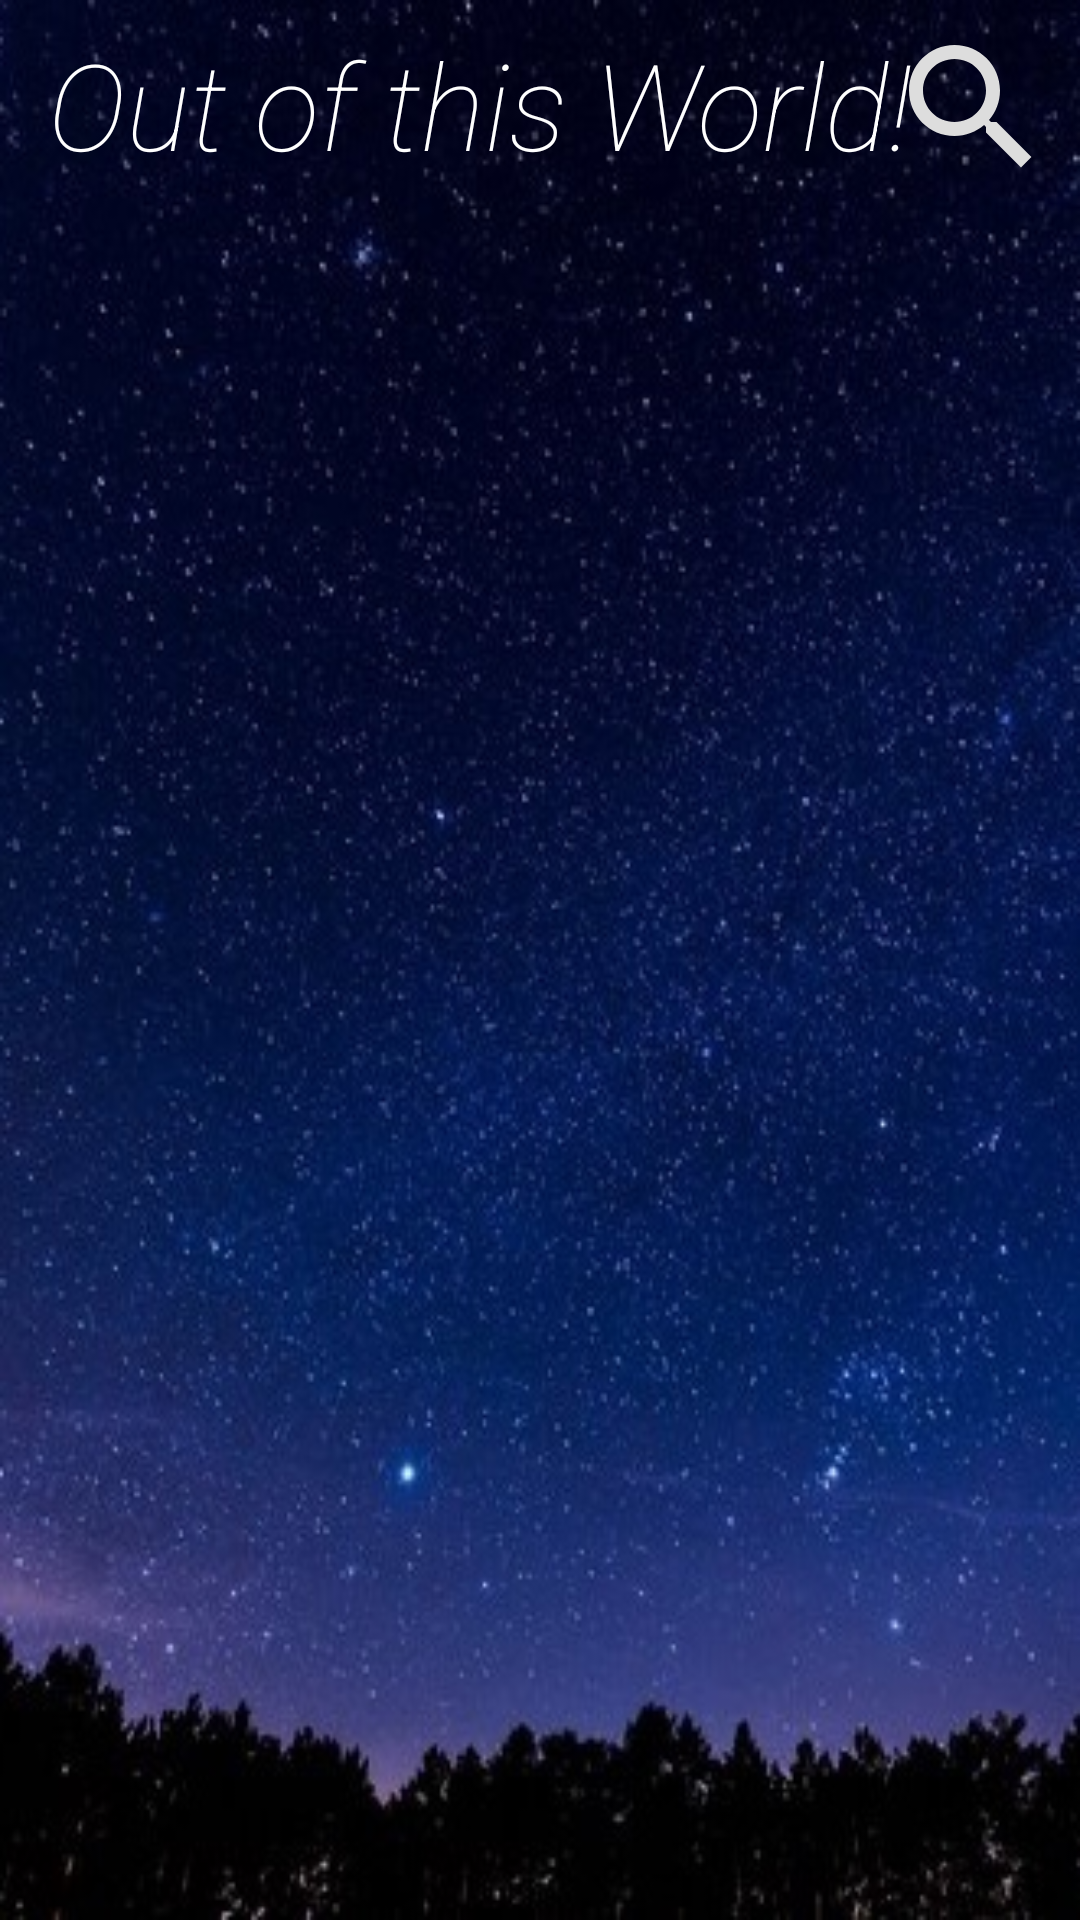

Where to tap for icons on this 1080 x 1920 app screen, as (x=x, y=y):
search bt: (x=972, y=108)
